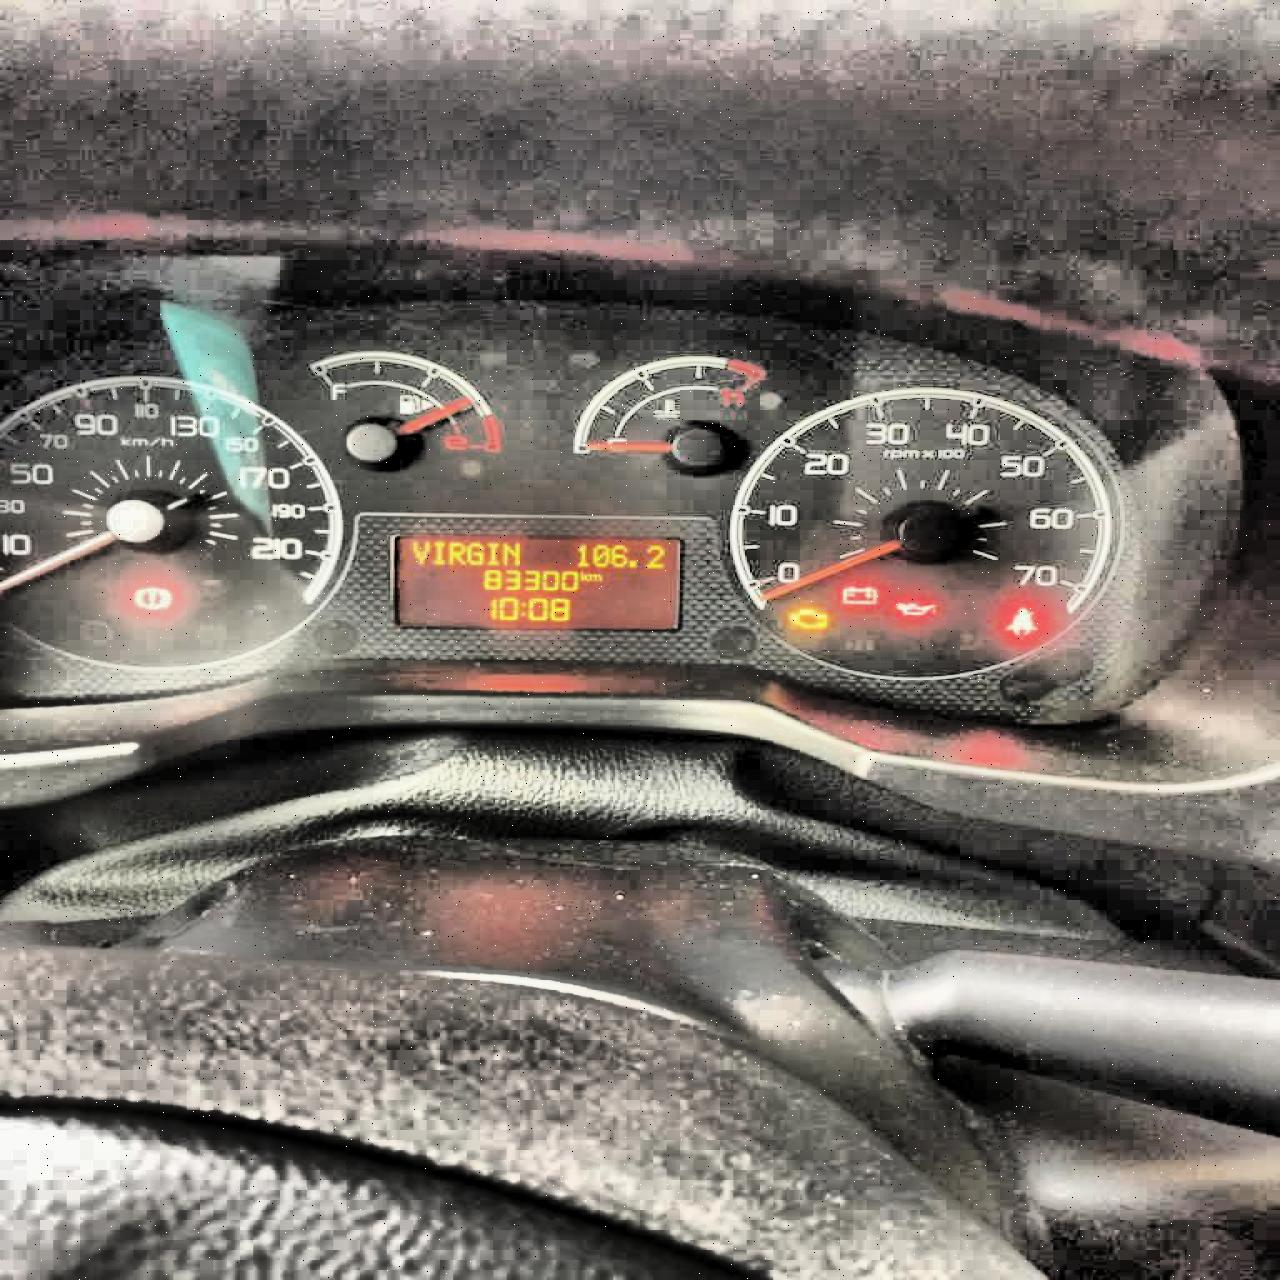-: (626, 557, 636, 567)
0: (526, 595, 549, 620), (497, 595, 518, 621), (590, 542, 608, 567), (539, 567, 558, 591), (560, 568, 577, 590)
1: (574, 542, 588, 567), (490, 597, 495, 619)
2: (644, 543, 665, 567)
3: (503, 567, 519, 591), (522, 567, 538, 591)
6: (611, 544, 627, 566)
8: (482, 567, 502, 591), (550, 595, 568, 620)
X: (408, 537, 430, 565), (501, 539, 522, 565), (447, 540, 465, 565), (464, 540, 483, 565), (485, 539, 501, 565), (431, 539, 445, 566), (587, 571, 604, 581), (578, 567, 587, 581), (518, 598, 525, 617)
odometer: (381, 527, 687, 633)
